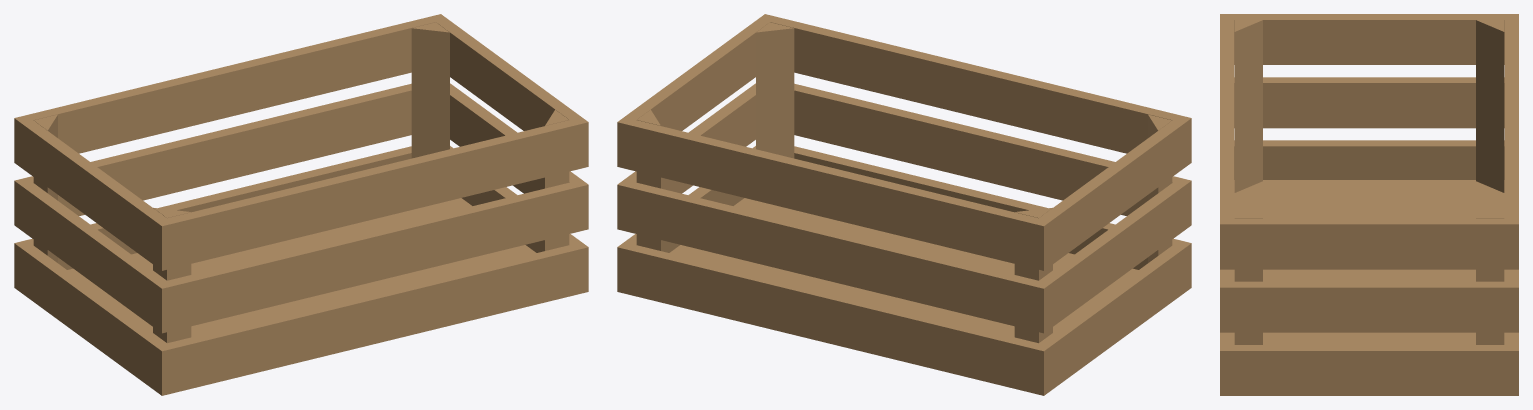
The model's file is tmp_basket.fbx.
The picture shows the model from 3 angles, left to right: view 1: azimuth 30°, elevation 25°; view 2: azimuth 150°, elevation 25°; view 3: azimuth 270°, elevation 25°; orthographic projection.
Parts seen in each view (by area): view 1: Basket; view 2: Basket; view 3: Basket.
Part boxes in pixels (left/top/right/bottom): Basket: left=14, top=14, right=588, bottom=395; Basket: left=617, top=14, right=1191, bottom=395; Basket: left=1220, top=14, right=1518, bottom=395.
Size of the model in its own units: 50 by 19 by 30.
